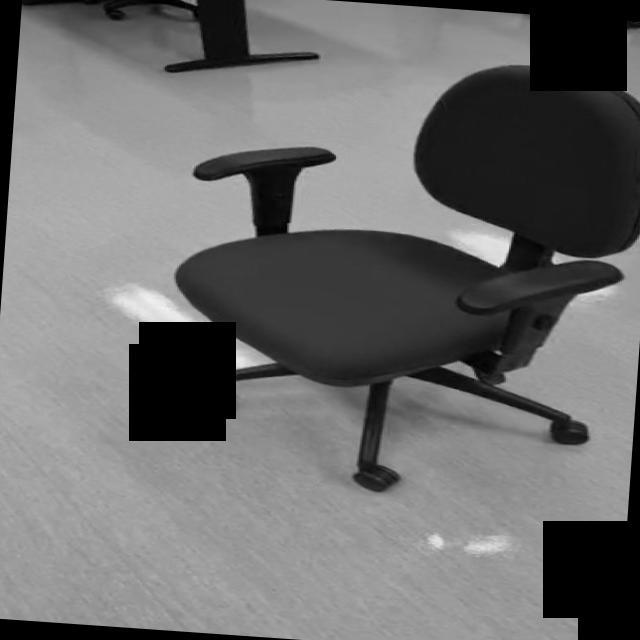chair: (160, 40, 640, 508)
